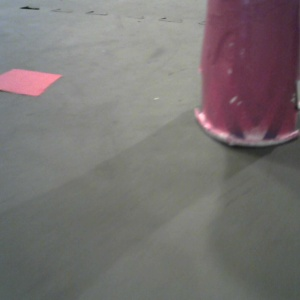right: (209, 1, 285, 60)
